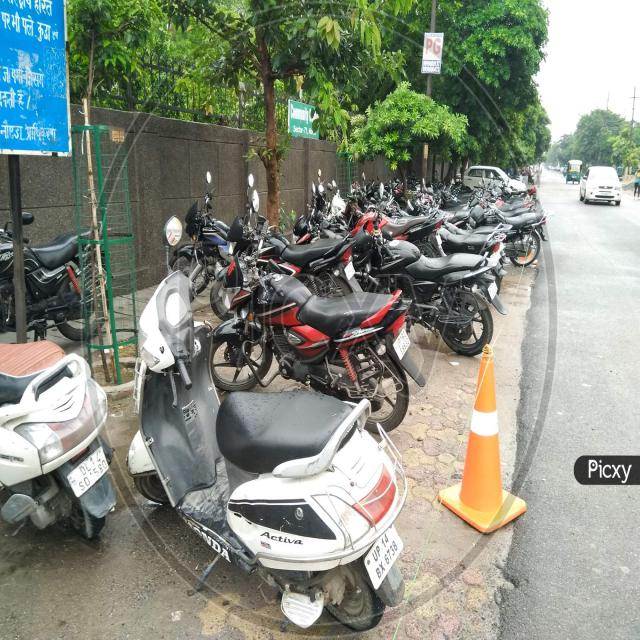plate: (360, 518, 406, 588), (66, 439, 109, 504), (392, 323, 412, 362), (485, 280, 501, 303), (600, 192, 612, 196)
